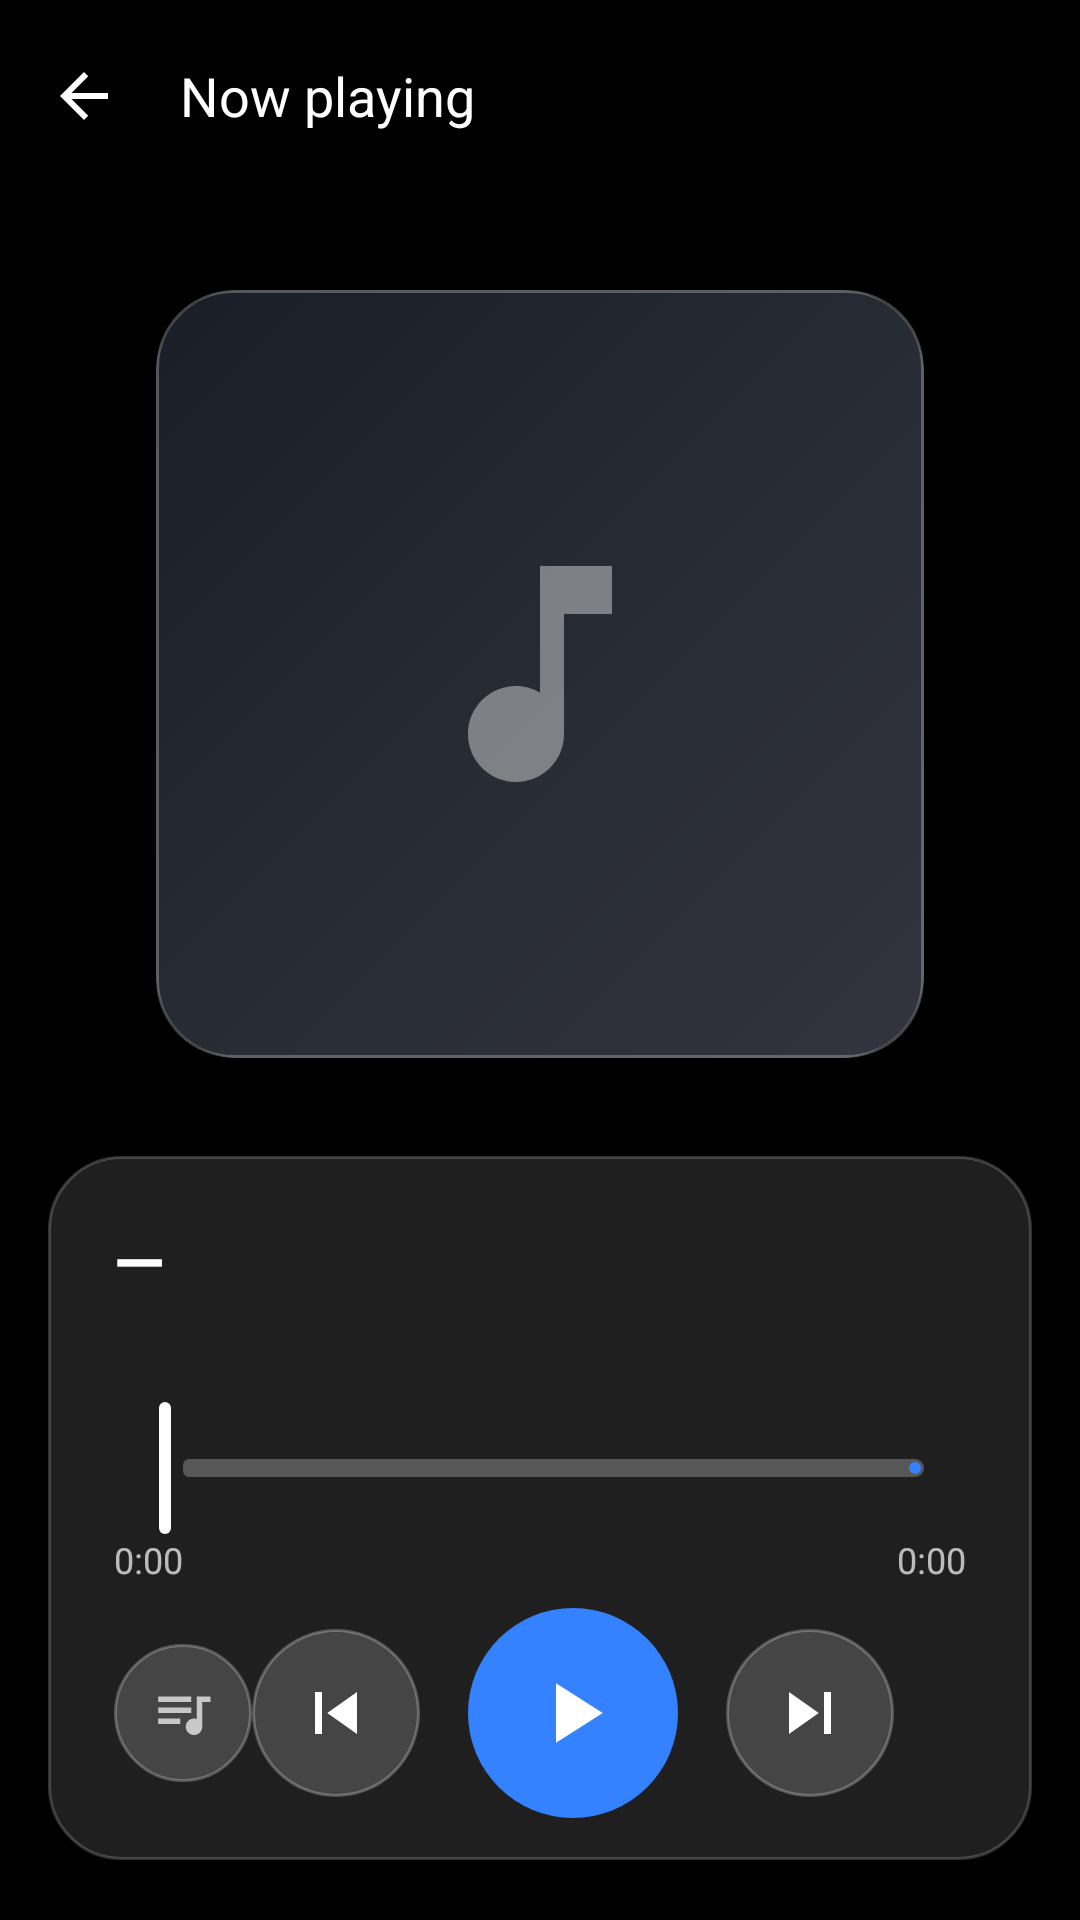

Screen size 1080 × 1920. Icon name, then its box in pixels as (x1, y1, x2, y2):
Next: (726, 1629, 894, 1797)
No album art: (468, 566, 612, 782)
Play/Pause: (468, 1608, 678, 1818)
Playlist: (114, 1644, 252, 1782)
Previous: (252, 1629, 420, 1797)
